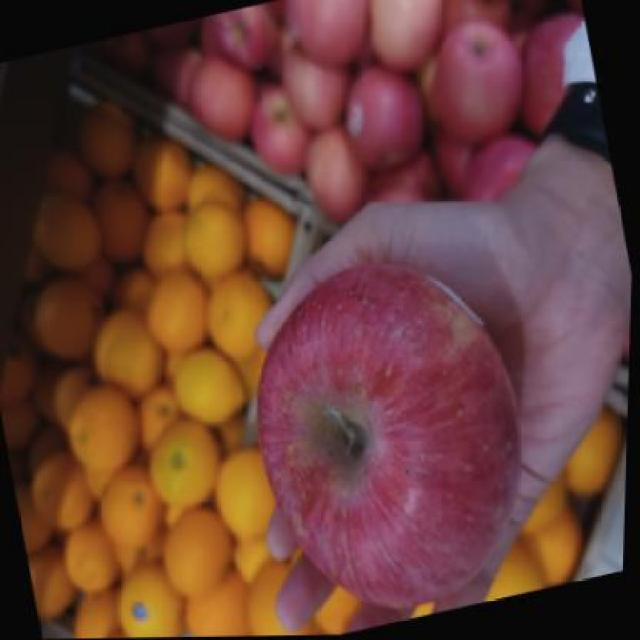Fresh Apple: (248, 258, 532, 627)
